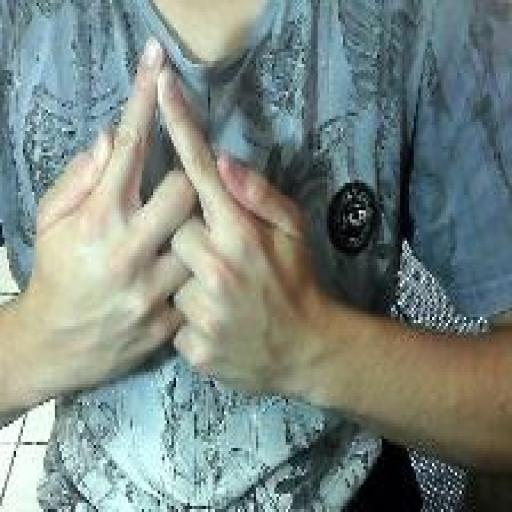Uma -horse-: (27, 35, 311, 407)
